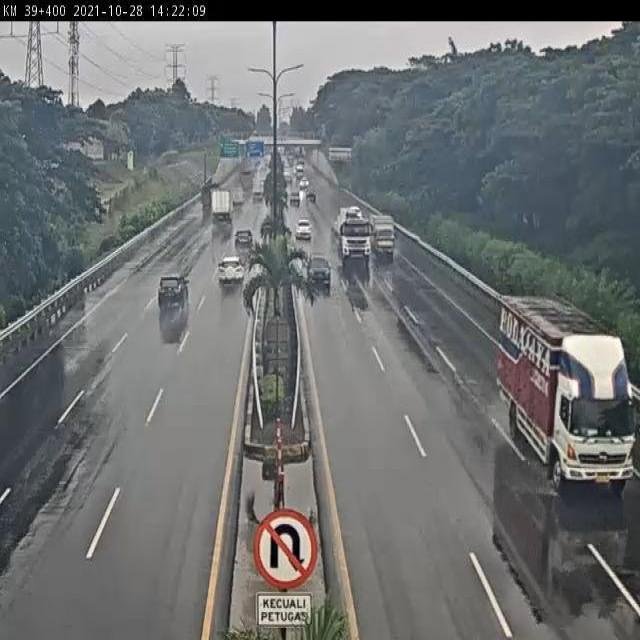car: (155, 272, 191, 311), (215, 253, 246, 288), (306, 252, 332, 287), (233, 224, 257, 253), (294, 218, 314, 242)
truck-l-: (497, 292, 636, 492), (209, 187, 235, 224)
truck-s-: (369, 208, 395, 260)
truck-xl-: (333, 204, 372, 264)
